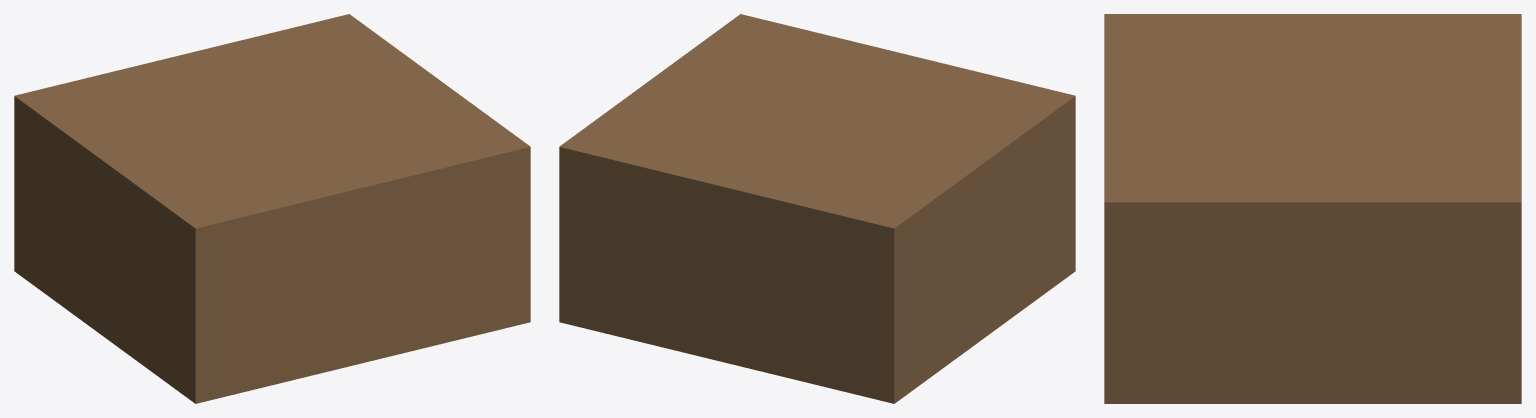
Rendered from dirt_4.glb.
3 renders of one model, left to right at view 1: azimuth 30°, elevation 25°; view 2: azimuth 150°, elevation 25°; view 3: azimuth 270°, elevation 25°, orthographic. The views are drawn at different scales.
Size of the model in its own units: 0.32 by 0.16 by 0.3.
